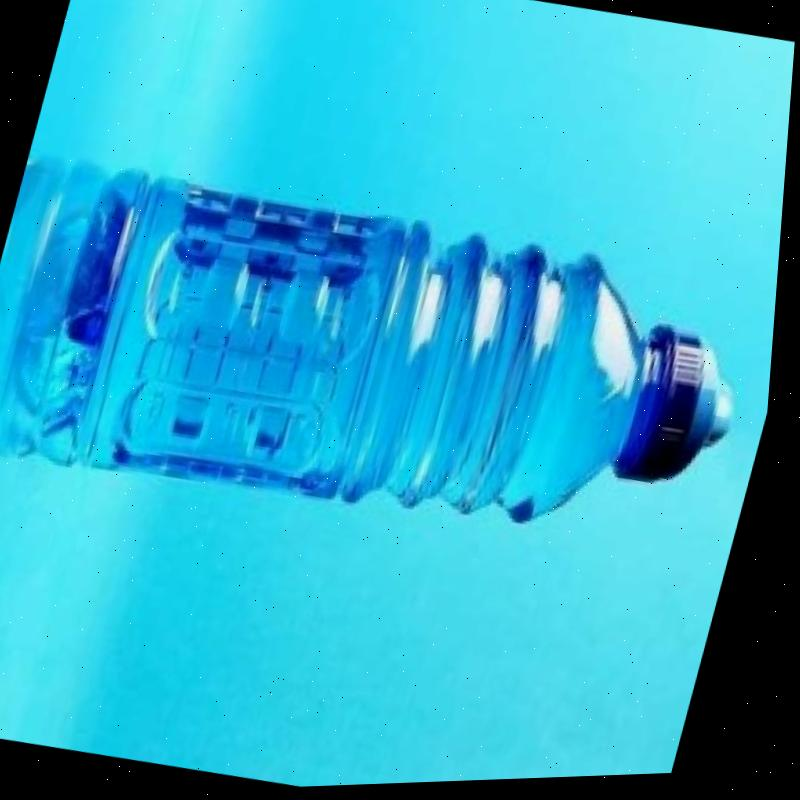botella: (0, 125, 787, 595)
